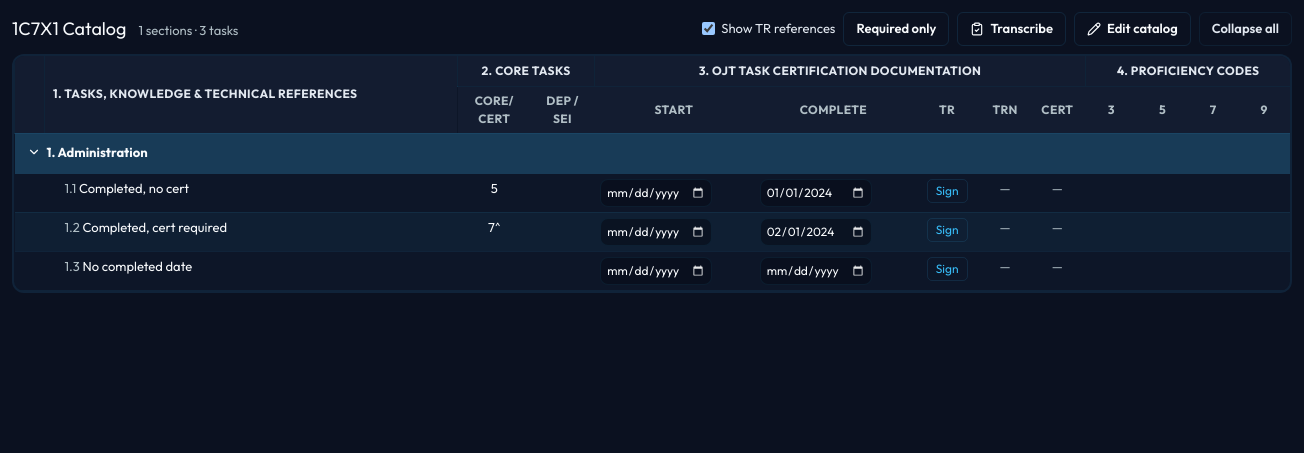
Test: JQS bulk transcribe UI › on your own record only the Trainee column is offered
Step 1. Click the button "Transcribe" → (1012, 29), box [957,12,1066,46]
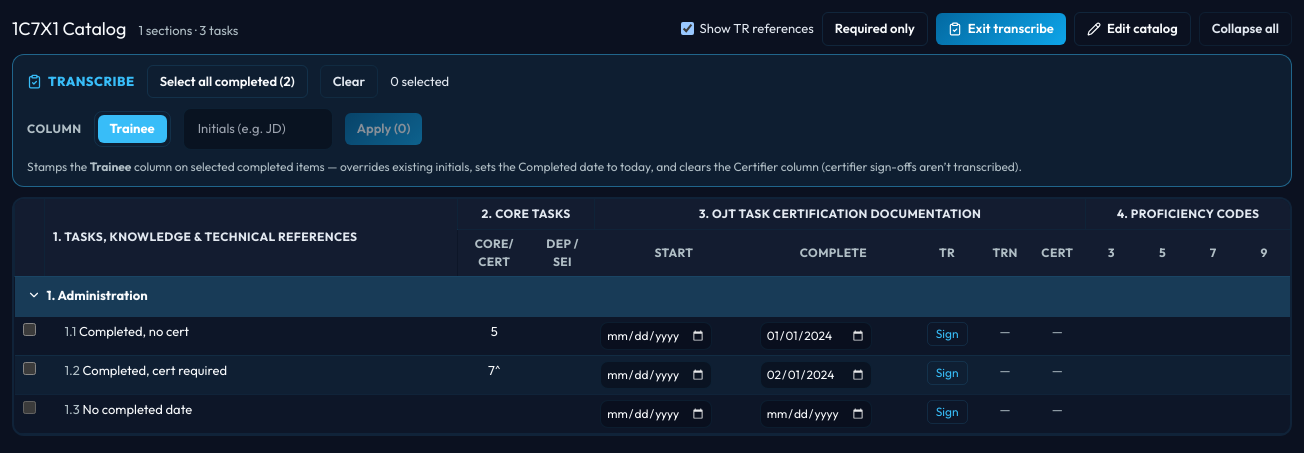
Expected: the button "Trainee" is shown, [98,115,167,142]
